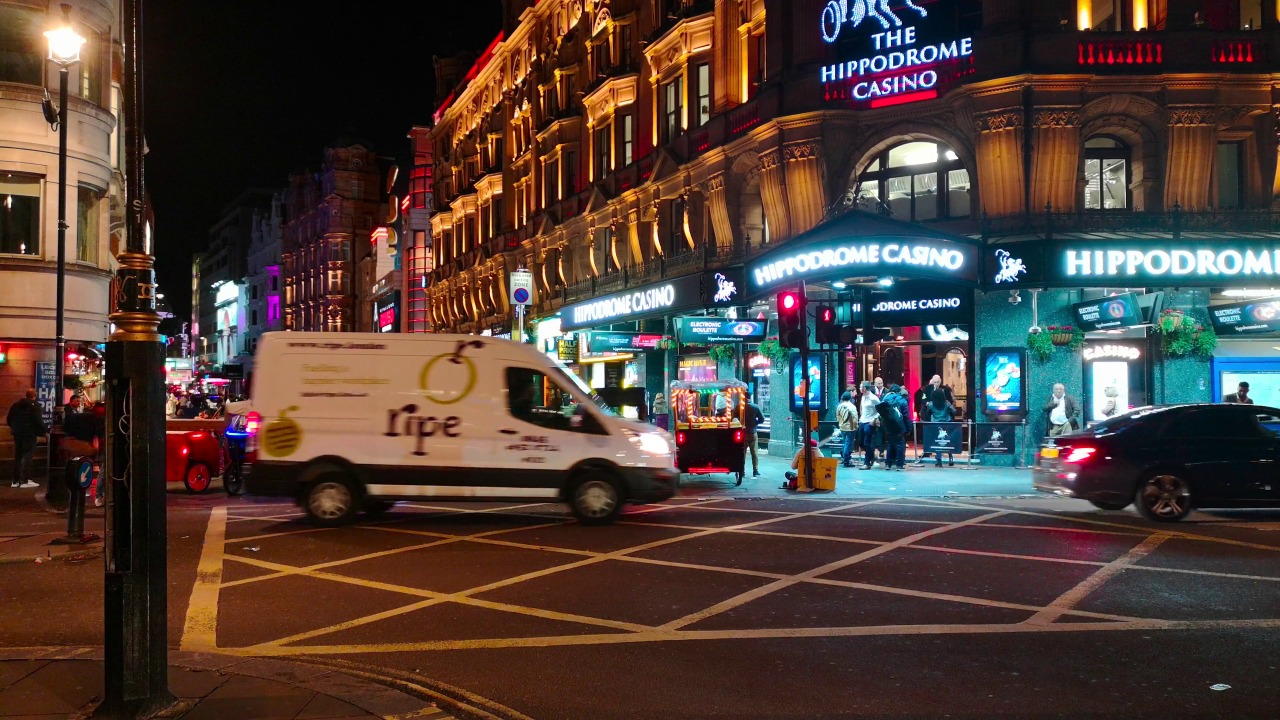car: (252, 334, 666, 529), (1049, 404, 1277, 512), (674, 381, 735, 467), (169, 422, 224, 503)
person: (1, 383, 46, 500), (926, 390, 958, 469), (783, 435, 828, 487), (881, 390, 905, 469), (1040, 379, 1079, 426), (861, 384, 876, 472), (838, 395, 852, 467), (748, 396, 759, 477), (1221, 378, 1254, 402), (920, 372, 949, 388), (1101, 381, 1117, 404), (66, 391, 81, 414), (653, 393, 664, 420), (874, 373, 885, 387)
